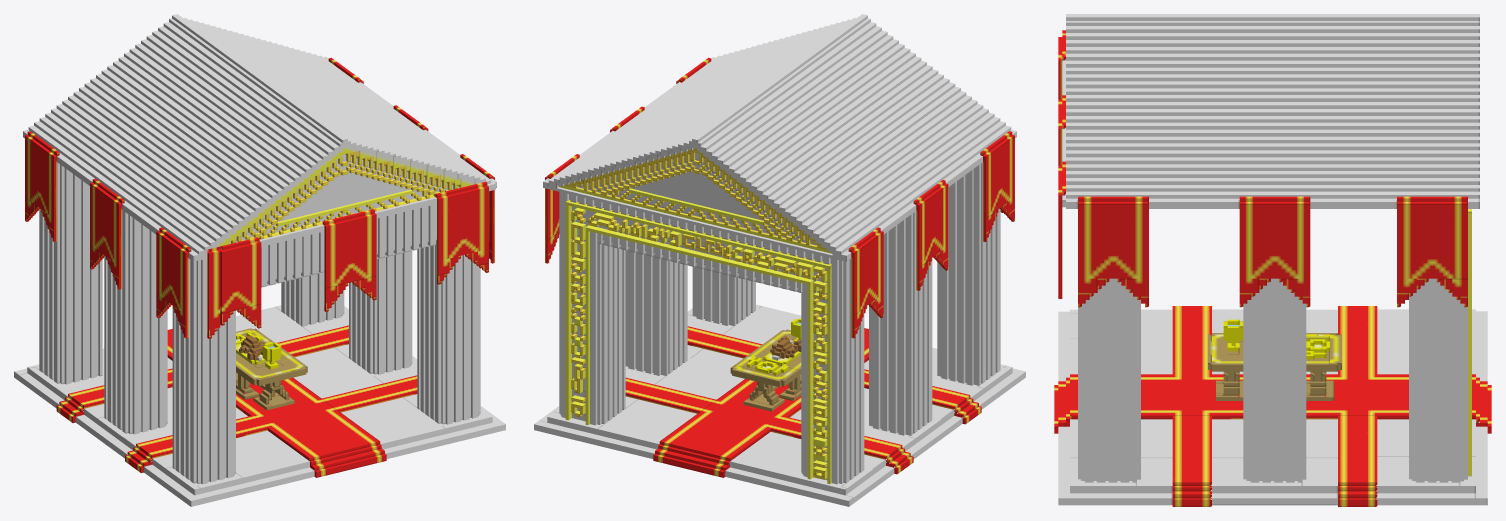
The picture shows the model from 3 angles, left to right: view 1: azimuth 30°, elevation 25°; view 2: azimuth 150°, elevation 25°; view 3: azimuth 270°, elevation 25°; orthographic projection. The views are drawn at different scales.
Parts seen in each view (by area): view 1: Node-local, Node (2)-local; view 2: Node-local, Node (2)-local; view 3: Node-local, Node (2)-local.
Boxes of the visible parts, x1,y1,x2,y2 form: Node-local: (14,14,505,506); Node (2)-local: (236,328,307,410); Node-local: (534,14,1025,506); Node (2)-local: (730,318,801,411); Node-local: (1054,14,1491,506); Node (2)-local: (1208,319,1341,400).
Bounding box in the file's own units: 114 × 111 × 111.
2 materials, 2 textured.
